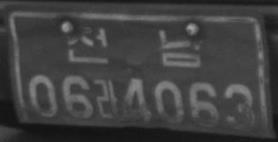0: (153, 79, 185, 125), (26, 73, 58, 118)
3: (224, 81, 256, 131)
4: (121, 76, 152, 123)
6: (187, 80, 220, 128), (61, 73, 94, 120)
라: (94, 77, 120, 119)
전남_D: (65, 22, 204, 68)
